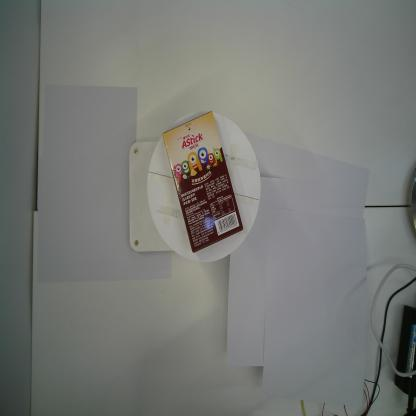Dessert: (162, 108, 243, 254)
